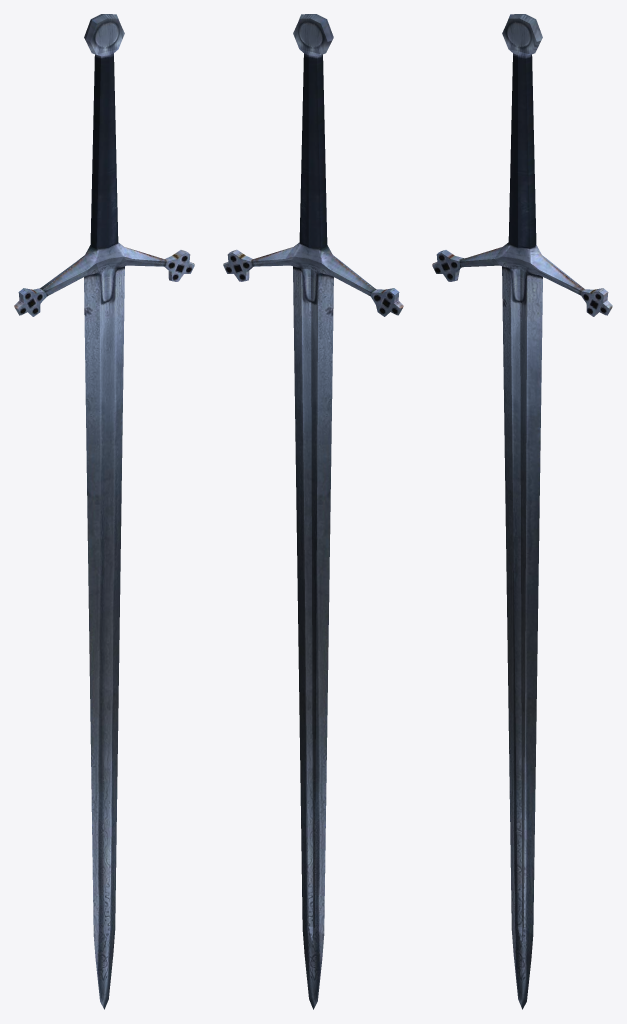
Rendered from sword.glb.
3 renders of one model, left to right at view 1: azimuth 30°, elevation 25°; view 2: azimuth 150°, elevation 25°; view 3: azimuth 330°, elevation 25°, orthographic.
Visible parts, largest first — view 1: claymore; view 2: claymore; view 3: claymore.
Part boxes in pixels (x1=…): claymore: x1=14, y1=14, x2=194, y2=1009; claymore: x1=223, y1=14, x2=403, y2=1009; claymore: x1=432, y1=14, x2=612, y2=1009.
Bounding box in the file's own units: 0.8128 × 4.3 × 0.0887.
Materials: 1 (1 with a texture image).
